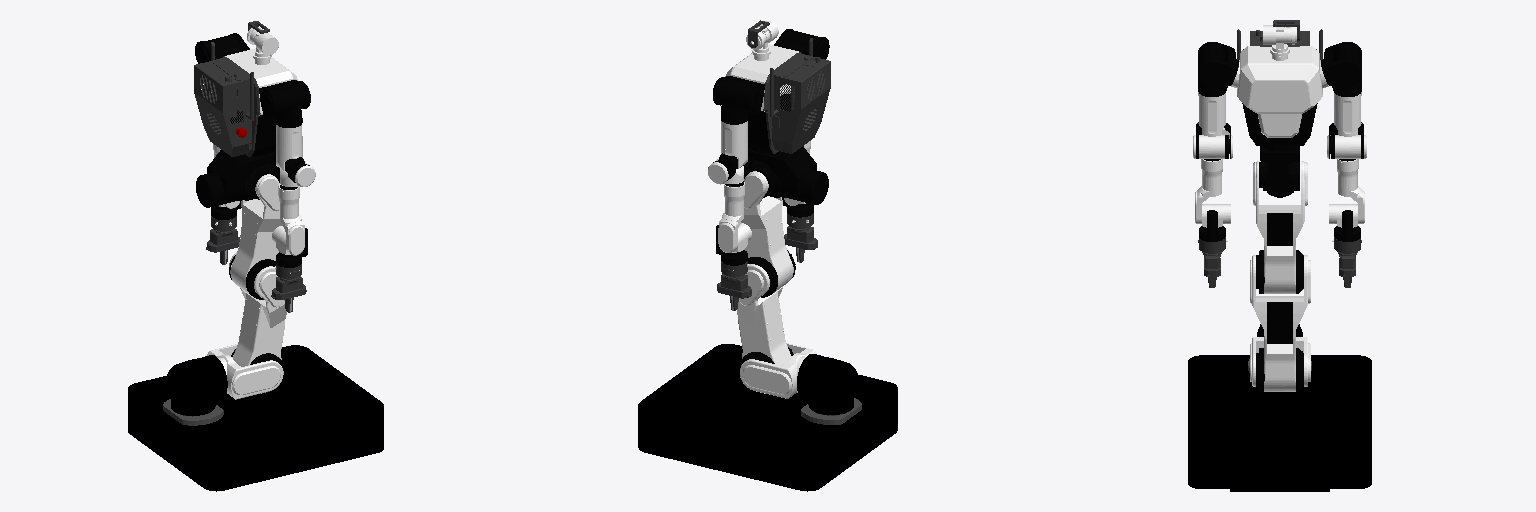
--- What the picture shows (computed from the rendered views, not written in the file) ---
The picture shows the robot from 3 angles, left to right: view 1: azimuth 30°, elevation 25°; view 2: azimuth 150°, elevation 25°; view 3: azimuth 270°, elevation 25°; orthographic projection.
Robot: RBY1_M_v1.2 — 34 links, 33 joints (22 revolute, 4 continuous, 4 prismatic, 3 fixed); root link base; default pose: every joint at zero.
Visible links, largest first — view 1: base, link_torso_5, link_torso_2, link_torso_1, link_torso_4, link_torso_0, link_right_arm_2, link_right_arm_1, link_right_arm_3, link_right_arm_5, link_right_arm_4, link_right_arm_0 (+4 smaller); view 2: base, link_torso_5, link_torso_2, link_torso_1, link_torso_4, link_torso_0, link_left_arm_2, link_left_arm_1, link_left_arm_3, link_left_arm_4, link_left_arm_5, link_left_arm_0 (+3 smaller); view 3: base, link_torso_5, link_torso_1, link_torso_2, link_torso_4, link_right_arm_2, link_left_arm_2, link_right_arm_3, link_left_arm_3, link_right_arm_0, link_left_arm_0, link_right_arm_5 (+5 smaller).
Boxes of the visible links, box(x1,y1,x2,y2) form: base: box(128, 345, 383, 491); link_torso_5: box(194, 42, 297, 157); link_torso_2: box(229, 174, 282, 299); link_torso_1: box(229, 252, 286, 393); link_torso_4: box(196, 150, 279, 207); link_torso_0: box(207, 344, 283, 399); link_right_arm_2: box(274, 125, 315, 186); link_right_arm_1: box(270, 83, 305, 127); link_right_arm_3: box(277, 162, 308, 217); link_right_arm_5: box(272, 226, 307, 267); link_right_arm_4: box(280, 215, 304, 255); link_right_arm_0: box(259, 80, 310, 116); base: box(638, 344, 897, 491); link_torso_5: box(725, 38, 830, 153); link_torso_2: box(741, 171, 795, 297); link_torso_1: box(737, 252, 793, 367); link_torso_4: box(747, 146, 828, 204); link_torso_0: box(740, 343, 816, 398); link_left_arm_2: box(708, 121, 749, 184); link_left_arm_1: box(718, 79, 752, 124); link_left_arm_3: box(716, 159, 746, 214); link_left_arm_4: box(718, 212, 743, 252); link_left_arm_5: box(716, 223, 751, 265); link_left_arm_0: box(713, 76, 764, 113); base: box(1188, 324, 1371, 491); link_torso_5: box(1229, 29, 1330, 148); link_torso_1: box(1250, 255, 1310, 391); link_torso_2: box(1253, 161, 1307, 293); link_torso_4: box(1260, 146, 1299, 197); link_right_arm_2: box(1193, 92, 1232, 158); link_left_arm_2: box(1327, 92, 1366, 158); link_right_arm_3: box(1199, 135, 1228, 189); link_left_arm_3: box(1331, 135, 1360, 189); link_right_arm_0: box(1198, 42, 1236, 90); link_left_arm_0: box(1323, 42, 1361, 90); link_right_arm_5: box(1199, 204, 1230, 241).
Bounding box of the posed robot: 0.695 × 0.6 × 1.53 m (x, y, z).
Meshes: 28 distinct files referenced, 30 mesh visuals loaded (26 Collada DAE); not drawn: 4 (reference not matched to a file when rendering).

The robot description file, URDF, robot "RBY1_M_v1.2":
<?xml version="1.0"?>
<robot name="RBY1_M_v1.2">
    <mobile type="mecanum" xyz="0 0 0" rpy="0 0 0" joints="wheel_fr wheel_fl wheel_rr wheel_rl"
            params="0.245 0.245 0.076" /> <!-- Lx, Ly, wheel_radius -->

    <link name="base">
        <inertial>
            <mass value="82.93082168" />
            <origin rpy="0 0 0" xyz="-0.05361531 -0.00279946 0.13500266" />
            <inertia ixx="2.38184773" ixy="0.00958286" ixz="0.32695003" iyy="4.04857218" iyz="-0.01527373" izz="5.45210782" />
        </inertial>
        <visual>
            <geometry>
                <mesh filename="./meshes/base.dae" />
            </geometry>
        </visual>
    </link>

    <link name="wheel_fr_link">
        <inertial>
            <mass value="2.54410022" />
            <origin rpy="0 0 3.1415926535897932384626433832795" xyz="-0.00010511 0.00094580 0.0" />
            <inertia ixx="0.00470985" ixy="-0.00000025" ixz="0.0" iyy="0.00616429" iyz="0.0" izz="0.00470754" />
        </inertial>
        <visual>
            <geometry>
                <mesh filename="./meshes/MECANUM_WHEEL.dae" />
            </geometry>
        </visual>
    </link>

    <link name="wheel_fl_link">
        <inertial>
            <mass value="2.54417879" />
            <origin rpy="0 0 0" xyz="-0.00010433 -0.00094577 0.0" />
            <inertia ixx="0.00471013" ixy="0.00000025" ixz="0.0" iyy="0.00616468" iyz="0.0" izz="0.00470782" />
        </inertial>
        <visual>
            <geometry>
                <mesh filename="./meshes/MECANUM_WHEEL_M.dae" />
            </geometry>
        </visual>
    </link>

    <link name="wheel_rr_link">
        <inertial>
            <mass value="2.54410022" />
            <origin rpy="0 0 0" xyz="-0.00010511 0.00094580 0.0" />
            <inertia ixx="0.00470985" ixy="-0.00000025" ixz="0.0" iyy="0.00616429" iyz="0.0" izz="0.00470754" />
        </inertial>
        <visual>
            <geometry>
                <mesh filename="./meshes/MECANUM_WHEEL_M.dae" />
            </geometry>
        </visual>
    </link>

    <link name="wheel_rl_link">
        <inertial>
            <mass value="2.54417879" />
            <origin rpy="0 0 3.1415926535897932384626433832795" xyz="-0.00010433 -0.00094577 0.0" />
            <inertia ixx="0.00471013" ixy="0.00000025" ixz="0.0" iyy="0.00616468" iyz="0.0" izz="0.00470782" />
        </inertial>

        <visual>
            <geometry>
                <mesh filename="./meshes/MECANUM_WHEEL.dae" />
            </geometry>
        </visual>
    </link>

    <link name="link_torso_0">
        <inertial>
            <mass value="2.24282123" />
            <origin rpy="0 0 0" xyz="-0.08848415 0.00021367 0.00000046" />
            <inertia ixx="0.01413496" ixy="0.00092982" ixz="-0.00000010" iyy="0.01005357"
                     iyz="-0.00000008" izz="0.01892525" />
        </inertial>

        <visual>
            <geometry>
                <mesh filename="./meshes/LINK_1.dae" />
            </geometry>
        </visual>

        <collision>
            <origin xyz="-0.115 0 0" rpy="0 1.5708 0" />
            <geometry>
                <capsule radius="0.105" length="0.230" coltype="1" />
                <!-- <capsule sp="0.0 0.0 0.0" ep="-0.230 0.0 0.0" radius="0.105" length="1" /> -->
            </geometry>
        </collision>
    </link>

    <link name="link_torso_1">
        <inertial>
            <mass value="9.72162676" />
            <origin rpy="0 0 0" xyz="0.00728955 -0.01728522 0.06911380" />
            <inertia ixx="0.14862640" ixy="-0.00142621" ixz="-0.00951385" iyy="0.13854733"
                     iyz="-0.00975351" izz="0.02912982" />
        </inertial>

        <visual>
            <geometry>
                <mesh filename="./meshes/LINK_2.dae" />
            </geometry>
        </visual>

        <collision>
            <origin xyz="0.0100 0 0.2400" rpy="0 0 0" />
            <geometry>
                <capsule radius="0.115" length="0.220" coltype="2" />
                <!-- <capsule sp="0.01 0.0 0.130" ep="0.01 0.0 0.350" radius="0.115" /> -->
            </geometry>
        </collision>
    </link>

    <link name="link_torso_2">
        <inertial>
            <mass value="9.21691850" />
            <origin rpy="0 0 0" xyz="0.00653835 -0.01769536 0.05636582" />
            <inertia ixx="0.12162270" ixy="-0.00127910" ixz="-0.00831678" iyy="0.11589190"
                     iyz="-0.00873271" izz="0.03094484" />
        </inertial>

        <visual>
            <geometry>
                <mesh filename="./meshes/LINK_3.dae" />
            </geometry>
        </visual>

        <collision>
            <origin xyz="0.0250 0 0.2300" rpy="0 0 0" />
            <geometry>
                <capsule radius="0.095" length="0.1600" coltype="4" />
                <!-- <capsule sp="0.025 0.0 0.15" ep="0.025 0.0 0.310" radius="0.095" /> -->
            </geometry>
        </collision>
    </link>

    <link name="link_torso_3">
        <inertial>
            <mass value="4.18679196" />
            <origin rpy="0 0 0" xyz="-0.00574156 -0.01725975 0.00005610" />
            <inertia ixx="0.00849870" ixy="0.00040861" ixz="-0.00000263" iyy="0.00929513"
                     iyz="-0.00001243" izz="0.00955442" />
        </inertial>

        <visual>
            <geometry>
                <mesh filename="./meshes/LINK_4.dae" />
            </geometry>
        </visual>
    </link>

    <link name="link_torso_4">
        <inertial>
            <mass value="4.45566276" />
            <origin rpy="0 0 0" xyz="-0.09097095 0.00005085 0.02601950" />
            <inertia ixx="0.01545991" ixy="0.00001883" ixz="-0.00780349" iyy="0.02550888" iyz="0.00000715"
                     izz="0.01952563" />
        </inertial>

        <visual>
            <geometry>
                <mesh filename="./meshes/LINK_5.dae" />
            </geometry>
        </visual>


        <collision>
            <origin xyz="-0.070000 0 0.038500" rpy="0 1.5708 0" />
            <geometry>
                <capsule radius="0.105" length="0.2" coltype="8" />
                <!-- <capsule sp="0.03 0.0 0.0385" ep="-0.170 0.0 0.0385" radius="0.105" /> -->
            </geometry>
        </collision>
    </link>

    <link name="link_torso_5">
        <inertial>
            <mass value="14.73283950"  />
            <origin rpy="0 0 0" xyz="-0.03419752 0.00073431 -0.02659420"  />
            <inertia ixx="0.23934353" ixy="0.00158316" ixz="0.02926509" iyy="0.23140544" iyz="0.00018390"
                izz="0.18873182"  />
        </inertial>

        <visual>
            <geometry>
                <mesh filename="./meshes/LINK_6.dae" />
            </geometry>
        </visual>

        <collision>
            <origin xyz="0 0 0.0075" rpy="0 0 0" />
            <geometry>
                <capsule radius="0.155" length="0.1350" coltype="16" />
                <!-- <capsule sp="0.0 0.0 -0.06" ep="0.0 0.0 0.075" radius="0.155" /> -->
            </geometry>
        </collision>
    </link>

    <link name="link_right_arm_0">
        <inertial>
            <mass value="1.26164242" />
            <origin rpy="0 0 0" xyz="-0.00316662 0.03437181 -0.00000030" />
            <inertia ixx="0.00230621" ixy="0.00039024" ixz="-0.00000256" iyy="0.00426418" iyz="0.00000118"
                     izz="0.00432156" />
        </inertial>

        <visual>
            <geometry>
                <mesh filename="./meshes/LINK_7.dae" />
            </geometry>
        </visual>

        <collision>
            <origin xyz="-0.015 0.018 -0.008" rpy="0 1.5708 0" />
            <geometry>
                <capsule radius="0.075" length="0.0700" />
            </geometry>
        </collision>
    </link>

    <link name="link_right_arm_1">
        <inertial>
            <mass value="2.27287031" />
            <origin rpy="0 0 0" xyz="-0.00307855 -0.00124741 -0.01294324" />
            <inertia ixx="0.00388490" ixy="-0.00001477" ixz="0.00011465" iyy="0.00447034"
                     iyz="-0.00010023" izz="0.00288341" />
        </inertial>

        <visual>
            <geometry>
                <mesh filename="./meshes/LINK_8.dae" />
            </geometry>
        </visual>

        <collision>
            <origin xyz="0 0 -0.1000" rpy="0 0 0" />
            <geometry>
                <capsule radius="0.05" length="0.2" coltype="32" />
                <!-- <capsule sp="0.0 0.0 0.0" ep="0.0 0.0 -0.200" radius="0.050" /> -->
            </geometry>
        </collision>
    </link>

    <link name="link_right_arm_2">
        <inertial>
            <mass value="2.46909439" />
            <origin rpy="0 0 0" xyz="0.00115434 -0.00196635 -0.16192524" />
            <inertia ixx="0.00980269" ixy="0.00005871" ixz="0.00051888" iyy="0.00924560" iyz="-0.00045932"
                     izz="0.00329867" />
        </inertial>

        <visual>
            <geometry>
                <mesh filename="./meshes/LINK_9.dae" />
            </geometry>
        </visual>

        <collision>
            <origin xyz="0.0260 0 -0.2760" rpy="1.5708 0 0" />
            <geometry>
                <capsule radius="0.05" length="0.080000" coltype="64" />
                <!-- <capsule sp="0.026 -0.040 -0.276" ep="0.026 0.040 -0.276" radius="0.05" /> -->
            </geometry>
        </collision>
    </link>

    <link name="link_right_arm_3">
        <inertial>
            <mass value="2.26099493" />
            <origin rpy="0 0 0" xyz="-0.01603135 -0.00692891 -0.04549811" />
            <inertia ixx="0.00822606" ixy="0.00027620" ixz="-0.00156570" iyy="0.00844870" iyz="0.00076157"
                     izz="0.00236614" />
        </inertial>

        <visual>
            <geometry>
                <mesh filename="./meshes/LINK_10.dae" />
            </geometry>
        </visual>

        <collision>
            <origin xyz="-0.0310 0 -0.1075" rpy="0 0 0" />
            <geometry>
                <capsule radius="0.04" length="0.1150" coltype="128" colaffinity="30" />
                <!-- <capsule sp="-0.031 0.0 -0.05" ep="-0.031 0.0 -0.165" radius="0.04" /> -->
            </geometry>
        </collision>
    </link>

    <link name="link_right_arm_4">
        <inertial>
            <mass value="0.42508710" />
            <origin rpy="0 0 0" xyz="-0.00000011 -0.02696036 0.06182110" />
            <inertia ixx="0.00082466" ixy="0.0" ixz="0.0" iyy="0.00075398" iyz="-0.00025338"
                izz="0.00039794" />
        </inertial>

        <visual>
            <geometry>
                <mesh filename="./meshes/LINK_11.dae" />
            </geometry>
        </visual>

        <collision>
            <origin xyz="0 -0.038 0.0175" rpy="0 0 0" />
            <geometry>
                <capsule radius="0.035" length="0.095" coltype="256" colaffinity="30" />
            </geometry>
        </collision>
    </link>

    <link name="link_right_arm_5">
        <inertial>
            <mass value="1.60506693" />
            <origin rpy="0 0 0" xyz="0.00592642 -0.00537804 -0.02584713" />
            <inertia ixx="0.00247557" ixy="-0.00004984" ixz="-0.00009861" iyy="0.00268241"
                iyz="0.00021452" izz="0.00166724" />
        </inertial>

        <visual>
            <geometry>
                <mesh filename="./meshes/LINK_12_v1.1.dae" />
            </geometry>
        </visual>

        <collision>
            <origin xyz="0 0 -0.08565" rpy="0 0 0" />
            <geometry>
                <capsule radius="0.075" length="0.2213" coltype="512" colaffinity="31" />
            </geometry>
        </collision>
    </link>

    <link name="link_right_arm_6">
        <inertial>
            <mass value="0.42751673" />
            <origin rpy="0 0 0" xyz="0.00024951 -0.00019562 -0.10711314" />
            <inertia ixx="0.00029613" ixy="-0.00000186" ixz="-0.00000157" iyy="0.00030651"
                iyz="0.00000221" izz="0.00048946" />
        </inertial>

        <visual>
            <geometry>
                <mesh filename="./meshes/LINK_13_v1.1.dae" />
            </geometry>
        </visual>
    </link>

    <link name="link_left_arm_0">
        <inertial>
            <mass value="1.26164242" />
            <origin rpy="0 0 0" xyz="-0.00316662 -0.03437151 0.00000242" />
            <inertia ixx="0.00230624" ixy="-0.00039022" ixz="0.00000269" iyy="0.00426418" iyz="0.00000108"
                     izz="0.00432159" />
        </inertial>

        <visual>
            <geometry>
                <mesh filename="./meshes/LINK_14.dae" />
            </geometry>
        </visual>

        <collision>
            <origin xyz="-0.015 -0.018 -0.008" rpy="0 1.5708 0" />
            <geometry>
                <capsule radius="0.075" length="0.0700" />
            </geometry>
        </collision>
    </link>

    <link name="link_left_arm_1">
        <inertial>
            <mass value="1.88138658" />
            <origin rpy="0 0 0" xyz="-0.00183470 0.00040596 -0.01008733" />
            <inertia ixx="0.00295838" ixy="-0.00001176" ixz="0.00006949" iyy="0.00355208" iyz="0.00004467"
                     izz="0.00230558" />
        </inertial>

        <visual>
            <geometry>
                <mesh filename="./meshes/LINK_15.dae" />
            </geometry>
        </visual>

        <collision>
            <origin xyz="0 0 -0.1000" rpy="0 0 0" />
            <geometry>
                <capsule radius="0.050" length="0.2000" colaffinity="768" />
            </geometry>
        </collision>
    </link>

    <link name="link_left_arm_2">
        <inertial>
            <mass value="2.35634437" />
            <origin rpy="0 0 0" xyz="0.00066086 -0.00038583 -0.15742972" />
            <inertia ixx="0.00842712" ixy="0.00000247" ixz="0.00036948" iyy="0.00802311" iyz="-0.00006550"
                     izz="0.00295678" />
        </inertial>

        <visual>
            <geometry>
                <mesh filename="./meshes/LINK_16.dae" />
            </geometry>
        </visual>

        <collision>
            <origin xyz="0.0260 0 -0.2760" rpy="1.5708 0 0" />
            <geometry>
                <capsule radius="0.05" length="0.080000" colaffinity="768" />
            </geometry>
        </collision>
    </link>

    <link name="link_left_arm_3">
        <inertial>
            <mass value="2.00905891" />
            <origin rpy="0 0 0" xyz="-0.01565298 0.00793126 -0.04997943" />
            <inertia ixx="0.00756474" ixy="-0.00026771" ixz="-0.00155419" iyy="0.00772758"
                     iyz="-0.00084364" izz="0.00199754" />
        </inertial>

        <visual>
            <geometry>
                <mesh filename="./meshes/LINK_17.dae" />
            </geometry>
        </visual>

        <collision>
            <origin xyz="-0.0310 0 -0.1075" rpy="0 0 0" />
            <geometry>
                <capsule radius="0.04" length="0.1150" colaffinity="926" />
            </geometry>
        </collision>
    </link>

    <link name="link_left_arm_4">
        <inertial>
            <mass value="0.42508710" />
            <origin rpy="0 0 0" xyz="0.00000011 0.02696036 0.06182110" />
            <inertia ixx="0.00082466" ixy="0.0" ixz="0.0" iyy="0.00075398" iyz="0.00025338"
                izz="0.00039794" />
        </inertial>

        <visual>
            <geometry>
                <mesh filename="./meshes/LINK_18.dae" />
            </geometry>
        </visual>

        <collision>
            <origin xyz="0 0.038000 0.017500" rpy="0 0 0" />
            <geometry>
                <capsule radius="0.035" length="0.095000" colaffinity="1022" />
            </geometry>
        </collision>
    </link>

    <link name="link_left_arm_5">
        <inertial>
            <mass value="1.60424243" />
            <origin rpy="0 0 0" xyz="0.00592398 -0.01167056 -0.02584035" />
            <inertia ixx="0.00247523" ixy="-0.00004992" ixz="-0.00009867" iyy="0.00268221"
                iyz="0.00021464" izz="0.00166703" />
        </inertial>

        <visual>
            <geometry>
                <mesh filename="./meshes/LINK_19_v1.1.dae" />
            </geometry>
        </visual>

        <collision>
            <origin xyz="0 0 -0.08565" rpy="0 0 0" />
            <geometry>
                <capsule radius="0.075" length="0.2213" colaffinity="1023" />
            </geometry>
        </collision>
    </link>

    <link name="link_left_arm_6">
        <inertial>
            <mass value="0.42751673" />
            <origin rpy="0 0 0" xyz="-0.00024951 0.00019562 -0.10711314" />
            <inertia ixx="0.00029613" ixy="-0.00000186" ixz="0.00000157" iyy="0.00030651"
                iyz="-0.00000221" izz="0.00048946" />
        </inertial>

        <visual>
            <geometry>
                <mesh filename="./meshes/LINK_20_v1.1.dae" />
            </geometry>
        </visual>
    </link>

    <link name="ee_right">
        <inertial>
            <mass value="0.46704998" />
            <origin rpy="0 0 0" xyz="0.00212703 0.00000615 -0.04287176" />
            <inertia ixx="0.00032067" ixy="0.00002383" ixz="-0.00000785" iyy="0.00059559"
                iyz="-0.00000007" izz="0.00052732" />
        </inertial>

        <visual>
            <geometry>
                <mesh filename="./meshes/EE_BODY.dae" />
            </geometry>
        </visual>
    </link>

    <link name="ee_finger_r1">
        <inertial>
            <mass value="0.03326999" />
            <origin rpy="0 0 0" xyz="0.00278346 -0.00000329 -0.02570112" />
            <inertia ixx="0.00001231" ixy="0.0" ixz="-0.00000042" iyy="0.00001066" iyz="0.0"
                izz="0.00000224" />
        </inertial>

        <visual>
            <geometry>
                <mesh filename="./meshes/EE_FINGER.dae" />
            </geometry>
        </visual>
    </link>

    <link name="ee_finger_r2">
        <inertial>
            <mass value="0.03326999" />
            <origin rpy="0 0 0" xyz="0.00278346 -0.00000329 -0.02570112" />
            <inertia ixx="0.00001231" ixy="0.0" ixz="-0.00000042" iyy="0.00001066" iyz="0.0"
                izz="0.00000224" />
        </inertial>

        <visual>
            <geometry>
                <mesh filename="./meshes/EE_FINGER.dae" />
            </geometry>
        </visual>
    </link>

    <link name="ee_left">
        <inertial>
            <mass value="0.46704998" />
            <origin rpy="0 0 0" xyz="0.00212703 0.00000615 -0.04287176" />
            <inertia ixx="0.00032067" ixy="0.00002383" ixz="-0.00000785" iyy="0.00059559"
                iyz="-0.00000007" izz="0.00052732" />
        </inertial>

        <visual>
            <geometry>
                <mesh filename="./meshes/EE_BODY.dae" />
            </geometry>
        </visual>
    </link>

    <link name="ee_finger_l1">
        <inertial>
            <mass value="0.03326999" />
            <origin rpy="0 0 0" xyz="0.00278346 -0.00000329 -0.02570112" />
            <inertia ixx="0.00001231" ixy="0.0" ixz="-0.00000042" iyy="0.00001066" iyz="0.0"
                izz="0.00000224" />
        </inertial>

        <visual>
            <geometry>
                <mesh filename="./meshes/EE_FINGER.dae" />
            </geometry>
        </visual>
    </link>

    <link name="ee_finger_l2">
        <inertial>
            <mass value="0.03326999" />
            <origin rpy="0 0 0" xyz="0.00278346 -0.00000329 -0.02570112" />
            <inertia ixx="0.00001231" ixy="0.0" ixz="-0.00000042" iyy="0.00001066" iyz="0.0"
                izz="0.00000224" />
        </inertial>

        <visual>
            <geometry>
                <mesh filename="./meshes/EE_FINGER.dae" />
            </geometry>
        </visual>
    </link>

    <link name="link_head_0">
        <inertial>
            <mass value="0.65731648" />
            <origin rpy="0 0 0" xyz="0.00024733 0.00033306 -0.01029730" />
            <inertia ixx="0.00046241" ixy="0.00000182" ixz="0.00001119" iyy="0.00043223" iyz="0.00000061"
                izz="0.00027509" />
        </inertial>

        <visual>
            <geometry>
                <mesh filename="./meshes/NECK_0.dae" />
            </geometry>
        </visual>
    </link>

    <link name="link_head_1">
        <inertial>
            <mass value="0.70476502" />
            <origin rpy="0 0 0" xyz="-0.00041643 0.00593524 -0.00289916" />
            <inertia ixx="0.00066212" ixy="-0.00000515" ixz="0.00000093" iyy="0.00036078"
                iyz="-0.00001312" izz="0.00059265" />
        </inertial>

        <visual>
            <geometry>
                <mesh filename="./meshes/NECK_1.dae" />
            </geometry>
        </visual>
    </link>

    <link name="link_head_2">
        <inertial>
            <mass value="0.95262738" />
            <origin rpy="0 0 0" xyz="0.05315320 0.00547509 0.05913909" />
            <inertia ixx="0.00114243" ixy="0.00027678" ixz="-0.00035426" iyy="0.00107559" iyz="0.00023641"
                izz="0.00151415" />
        </inertial>

        <visual>
            <geometry>
                <mesh filename="./meshes/NECK_2.dae" />
            </geometry>
        </visual>
    </link>


    <!-- Joints -->
    <joint name="wheel_fr" type="continuous">
        <parent link="base" />
        <child link="wheel_fr_link" />
        <origin rpy="0.0 0.0 0.0" xyz="0.243 -0.245 0.076" />
        <axis xyz="0 1 0" />
    </joint>

    <joint name="wheel_fl" type="continuous">
        <parent link="base" />
        <child link="wheel_fl_link" />
        <origin rpy="0.0 0.0 0.0" xyz="0.243 0.245 0.076" />
        <axis xyz="0 1 0" />
    </joint>

    <joint name="wheel_rr" type="continuous">
        <parent link="base" />
        <child link="wheel_rr_link" />
        <origin rpy="0.0 0.0 0.0" xyz="-0.247 -0.245 0.076" />
        <axis xyz="0 1 0" />
    </joint>

    <joint name="wheel_rl" type="continuous">
        <parent link="base" />
        <child link="wheel_rl_link" />
        <origin rpy="0.0 0.0 0.0" xyz="-0.247 0.245 0.076" />
        <axis xyz="0 1 0" />
    </joint>

    <joint name="torso_0" type="revolute">
        <parent link="base" />
        <child link="link_torso_0" />
        <origin rpy="0.0 0.0 0.0" xyz="0.0 0.0 0.2965" />
        <axis xyz="1 0 0" />
        <!-- Nm, rad/s^2, rad/s, (min) rad, (max) rad -->
        <!-- 270Nm, 5rad/s^2, 120deg/s, -15deg, 15deg -->
        <limit effort="270.0"
               acceleration="5.0"
               velocity="2.09439510"
               lower="-0.261799388"
               upper="0.261799388"
         />
    </joint>

    <joint name="torso_1" type="revolute">
        <parent link="link_torso_0" />
        <child link="link_torso_1" />
        <origin rpy="0.0 0.0 0.0" xyz="0.0 0.0 0.0" />
        <axis xyz="0 1 0" />
        <!-- Nm, rad/s^2, rad/s, (min) rad, (max) rad -->
        <!-- 270Nm, 5rad/s^2, 120deg/s, -30deg, 90deg -->
        <limit effort="270.0"
               acceleration="5.0"
               velocity="2.09439510"
               lower="-0.523598776"
               upper="1.570796327"
         />
    </joint>

    <joint name="torso_2" type="revolute">
        <parent link="link_torso_1" />
        <child link="link_torso_2" />
        <origin rpy="0.0 0.0 0.0" xyz="0.0 0.0 0.350" />
        <axis xyz="0 1 0" />
        <!-- Nm, rad/s^2, rad/s, (min) rad, (max) rad -->
        <!-- 270Nm, 5rad/s^2, 120deg/s, -150deg, 90deg -->
        <limit effort="270.0"
               acceleration="5.0"
               velocity="2.09439510"
               lower="-2.617993878"
               upper="1.570796327"
         />
    </joint>

    <joint name="torso_3" type="revolute">
        <parent link="link_torso_2" />
        <child link="link_torso_3" />
        <origin rpy="0.0 0.0 0.0" xyz="0.0 0.0 0.350" />
        <axis xyz="0 1 0" />
        <!-- Nm, rad/s^2, rad/s, (min) rad, (max) rad -->
        <!-- 120Nm, 5rad/s^2, 180deg/s, -45deg, 90deg -->
        <limit effort="120.0"
               acceleration="5.0"
               velocity="3.141592654"
               lower="-0.785398163"
               upper="1.570796327"
         />
    </joint>

    <joint name="torso_4" type="revolute">
        <parent link="link_torso_3" />
        <child link="link_torso_4" />
        <origin rpy="0.0 0.0 0.0" xyz="0.0 0.0 0.0" />
        <axis xyz="1 0 0" />
        <!-- Nm, rad/s^2, rad/s, (min) rad, (max) rad -->
        <!-- 120Nm, 5rad/s^2, 180deg/s, -30deg, 30deg -->
        <limit effort="120.0"
               acceleration="5.0"
               velocity="3.141592654"
               lower="-0.523598776"
               upper="0.523598776"
         />
    </joint>

    <joint name="torso_5" type="revolute">
        <parent link="link_torso_4" />
        <child link="link_torso_5" />
        <origin rpy="0.0 0.0 0.0" xyz="0.0 0.0 0.309426548461" />
        <axis xyz="0 0 1" />
        <!-- Nm, rad/s^2, rad/s, (min) rad, (max) rad -->
        <!-- 120Nm, 5rad/s^2, 180deg/s, -135deg, 135deg -->
        <limit effort="120.0"
               acceleration="5.0"
               velocity="3.141592654"
               lower="-2.35619449"
               upper="2.35619449"
         />
    </joint>

    <joint name="right_arm_0" type="revolute">
        <parent link="link_torso_5" />
        <child link="link_right_arm_0" />
        <origin rpy="0.0 0.0 0.0" xyz="0.0 -0.220 0.080073451539 " />
        <axis xyz="0.0 0.93969262 -0.34202014" />
        <!-- Nm, rad/s^2, rad/s, (min) rad, (max) rad -->
        <!-- 70Nm, 10rad/s^2, 180deg/s, -180deg, 180deg -->
        <limit effort="70.0"
               acceleration="10.0"
               velocity="3.141592654"
               lower="-3.141592654"
               upper="3.141592654"
         />
    </joint>

    <joint name="right_arm_1" type="revolute">
        <parent link="link_right_arm_0" />
        <child link="link_right_arm_1" />
        <origin rpy="0.0 0.0 0.0" xyz="0.0 0.0 0.0" />
        <axis xyz="1 0 0" />
        <!-- Nm, rad/s^2, rad/s, (min) rad, (max) rad -->
        <!-- 70Nm, 10rad/s^2, 180deg/s, -180deg, 1deg -->
        <limit effort="70.0"
               acceleration="10.0"
               velocity="3.141592654"
               lower="-3.141592654"
               upper="0.017453293"
         />
    </joint>

    <joint name="right_arm_2" type="revolute">
        <parent link="link_right_arm_1" />
        <child link="link_right_arm_2" />
        <origin rpy="0.0 0.0 0.0" xyz="0.0 0.0 0.0" />
        <axis xyz="0 0 1" />
        <!-- Nm, rad/s^2, rad/s, (min) rad, (max) rad -->
        <!-- 70Nm, 10rad/s^2, 180deg/s, -180deg, 180deg -->
        <limit effort="70.0"
               acceleration="10.0"
               velocity="3.141592654"
               lower="-3.141592654"
               upper="3.141592654"
         />
    </joint>

    <joint name="right_arm_3" type="revolute">
        <parent link="link_right_arm_2" />
        <child link="link_right_arm_3" />
        <origin rpy="0.0 0.0 0.0" xyz="0.031 0.0 -0.276" />
        <axis xyz="0 1 0" />
        <!-- Nm, rad/s^2, rad/s, (min) rad, (max) rad -->
        <!-- 40Nm, 10rad/s^2, 180deg/s, -150deg, 1deg -->
        <limit effort="40.0"
               acceleration="10.0"
               velocity="3.141592654"
               lower="-2.617993878"
               upper="0.017453293"
         />
    </joint>

    <joint name="right_arm_4" type="revolute">
        <parent link="link_right_arm_3" />
        <child link="link_right_arm_4" />
        <origin rpy="0.0 0.0 0.0" xyz="-0.031 0.0 -0.256" />
        <axis xyz="0 0 1" />
        <!-- Nm, rad/s^2, rad/s, (min) rad, (max) rad -->
        <!-- 10Nm, 10rad/s^2, 360deg/s, -180deg, 180deg -->
        <limit effort="10.0"
            acceleration="10.0"
            velocity="6.283185308"
            lower="-3.141592654"
            upper="3.141592654"
        />
    </joint>

    <joint name="right_arm_5" type="revolute">
        <parent link="link_right_arm_4" />
        <child link="link_right_arm_5" />
        <origin rpy="0.0 0.0 0.0" xyz="0.0 0.0 0.0" />
        <axis xyz="0 1 0" />
        <!-- Nm, rad/s^2, rad/s, (min) rad, (max) rad -->
        <!-- 10Nm, 10rad/s^2, 360deg/s, -90deg, 110deg -->
        <limit effort="10.0"
            acceleration="10.0"
            velocity="6.283185308"
            lower="-1.570796327"
            upper="1.919862177"
        />
    </joint>

    <joint name="right_arm_6" type="revolute">
        <parent link="link_right_arm_5" />
        <child link="link_right_arm_6" />
        <origin rpy="0.0 0.0 0.0" xyz="0.0 0.0 0.0" />
        <axis xyz="0 0 1" />
        <!-- Nm, rad/s^2, rad/s, (min) rad, (max) rad -->
        <!-- 8Nm, 10rad/s^2, 120deg/s, -155deg, 155deg -->
        <limit effort="8.0"
            acceleration="10.0"
            velocity="2.094395102"
            lower="-2.705260340"
            upper="2.705260340"
        />
    </joint>

    <joint name="left_arm_0" type="revolute">
        <parent link="link_torso_5" />
        <child link="link_left_arm_0" />
        <origin rpy="0.0 0.0 0.0" xyz="0.0 0.220 0.080073452 " />
        <axis xyz="0.0 0.93969262 0.34202014" />
        <!-- Nm, rad/s^2, rad/s, (min) rad, (max) rad -->
        <!-- 70Nm, 10rad/s^2, 180deg/s, -180deg, 180deg -->
        <limit effort="70.0"
            acceleration="10.0"
            velocity="3.141592654"
            lower="-3.141592654"
            upper="3.141592654"
        />
    </joint>

    <joint name="left_arm_1" type="revolute">
        <parent link="link_left_arm_0" />
        <child link="link_left_arm_1" />
        <origin rpy="0.0 0.0 0.0" xyz="0.0 0.0 0.0" />
        <axis xyz="1 0 0" />
        <!-- Nm, rad/s^2, rad/s, (min) rad, (max) rad -->
        <!-- 70Nm, 10rad/s^2, 180deg/s, -1deg, 180deg -->
        <limit effort="70.0"
            acceleration="10.0"
            velocity="3.141592654"
            lower="-0.017453293"
            upper="3.141592654"
         />
    </joint>

    <joint name="left_arm_2" type="revolute">
        <parent link="link_left_arm_1" />
        <child link="link_left_arm_2" />
        <origin rpy="0.0 0.0 0.0" xyz="0.0 0.0 0.0" />
        <axis xyz="0 0 1" />
        <!-- Nm, rad/s^2, rad/s, (min) rad, (max) rad -->
        <!-- 70Nm, 10rad/s^2, 180deg/s, -180deg, 180deg -->
        <limit effort="70.0"
            acceleration="10.0"
            velocity="3.141592654"
            lower="-3.141592654"
            upper="3.141592654"
         />
    </joint>

    <joint name="left_arm_3" type="revolute">
        <parent link="link_left_arm_2" />
        <child link="link_left_arm_3" />
        <origin rpy="0.0 0.0 0.0" xyz="0.031 0.0 -0.276" />
        <axis xyz="0 1 0" />
        <!-- Nm, rad/s^2, rad/s, (min) rad, (max) rad -->
        <!-- 40Nm, 10rad/s^2, 180deg/s, -150deg, 1deg -->
        <limit effort="40.0"
            acceleration="10.0"
            velocity="3.141592654"
            lower="-2.617993878"
            upper="0.017453293"
         />
    </joint>

    <joint name="left_arm_4" type="revolute">
        <parent link="link_left_arm_3" />
        <child link="link_left_arm_4" />
        <origin rpy="0.0 0.0 0.0" xyz="-0.031 0.0 -0.256" />
        <axis xyz="0 0 1" />
        <!-- Nm, rad/s^2, rad/s, (min) rad, (max) rad -->
        <!-- 10Nm, 10rad/s^2, 360deg/s, -180deg, 180deg -->
        <limit effort="10.0"
            acceleration="10.0"
            velocity="6.283185308"
            lower="-3.141592654"
            upper="3.141592654"
        />
    </joint>

    <joint name="left_arm_5" type="revolute">
        <parent link="link_left_arm_4" />
        <child link="link_left_arm_5" />
        <origin rpy="0.0 0.0 0.0" xyz="0.0 0.0 0.0" />
        <axis xyz="0 1 0" />
        <!-- Nm, rad/s^2, rad/s, (min) rad, (max) rad -->
        <!-- 10Nm, 10rad/s^2, 360deg/s, -90deg, 110deg -->
        <limit effort="10.0"
            acceleration="10.0"
            velocity="6.283185308"
            lower="-1.570796327"
            upper="1.919862177"
        />
    </joint>

    <joint name="left_arm_6" type="revolute">
        <parent link="link_left_arm_5" />
        <child link="link_left_arm_6" />
        <origin rpy="0.0 0.0 0.0" xyz="0.0 0.0 0.0" />
        <axis xyz="0 0 1" />
        <!-- Nm, rad/s^2, rad/s, (min) rad, (max) rad -->
        <!-- 8Nm, 10rad/s^2, 120deg/s, -155deg, 155deg -->
        <limit effort="8.0"
            acceleration="10.0"
            velocity="2.094395102"
            lower="-2.705260340"
            upper="2.705260340"
        />
    </joint>

    <joint name="tool_right" type="fixed">
        <parent link="link_right_arm_6" />
        <child link="ee_right" />
        <origin rpy="0.0 0.0 0.0" xyz="0.0 0.0 -0.1261" />
        <axis xyz="0 0 1" />
    </joint>

    <joint name="gripper_finger_r1" type="prismatic" in_model_type="fixed">
        <parent link="ee_right" />
        <child link="ee_finger_r1" />
        <origin rpy="0.0 0.0 0.0" xyz="0.003 0.0 -0.075" />
        <axis xyz="-1 0 0" />
        <limit effort="1000" velocity="0.05" lower="-0.05" upper="0" />
    </joint>

    <joint name="gripper_finger_r2" type="prismatic" in_model_type="fixed">
        <parent link="ee_right" />
        <child link="ee_finger_r2" />
        <origin rpy="0.0 0.0 3.1415926535" xyz="-0.003 0.0 -0.075" />
        <axis xyz="1 0 0" />
        <limit effort="1000" velocity="0.05" lower="0" upper="0.05" />
    </joint>

    <joint name="tool_left" type="fixed">
        <parent link="link_left_arm_6" />
        <child link="ee_left" />
        <origin rpy="0.0 0.0 0" xyz="0.0 0.0 -0.1261" />
        <axis xyz="0 0 1" />
    </joint>

    <joint name="gripper_finger_l1" type="prismatic" in_model_type="fixed">
        <parent link="ee_left" />
        <child link="ee_finger_l1" />
        <origin rpy="0.0 0.0 0.0" xyz="0.003 0.0 -0.075" />
        <axis xyz="-1 0 0" />
        <limit effort="1000" velocity="0.05" lower="-0.05" upper="0" />
    </joint>

    <joint name="gripper_finger_l2" type="prismatic" in_model_type="fixed">
        <parent link="ee_left" />
        <child link="ee_finger_l2" />
        <origin rpy="0.0 0.0 3.1415926535" xyz="-0.003 0.0 -0.075" />
        <axis xyz="1 0 0" />
        <limit effort="1000" velocity="0.05" lower="0" upper="0.05" />
    </joint>

    <joint name="head_base" type="fixed">
        <parent link="link_torso_5" />
        <child link="link_head_0" />
        <origin rpy="0.0 0.0 0.0" xyz="0.022 0.0 0.120073451525" />
        <axis xyz="0 0 1" />
    </joint>

    <joint name="head_0" type="revolute">
        <parent link="link_head_0" />
        <child link="link_head_1" />
        <origin rpy="0.0 0.0 0.0" xyz="0.0 0.0 0.080" />
        <axis xyz="0 0 1" />
        <limit effort="1000" velocity="3.14" lower="-1.57" upper="1.57" />
    </joint>

    <joint name="head_1" type="revolute">
        <parent link="link_head_1" />
        <child link="link_head_2" />
        <origin rpy="0.0 0.0 0.0" xyz="0.0 0.0 0.0" />
        <axis xyz="0 1 0" />
        <limit effort="1000" velocity="3.14" lower="-1.57" upper="1.57" />
    </joint>

    <!-- <joint name="head_mount" type="fixed">
      <parent link="link_head_2" />
      <child link="Arbitrary device" />
      <origin rpy="0.0 0.0 0.0" xyz="0.022 0.0 0.04" />
      <axis xyz="0 0 1" />
    </joint> -->

</robot>
